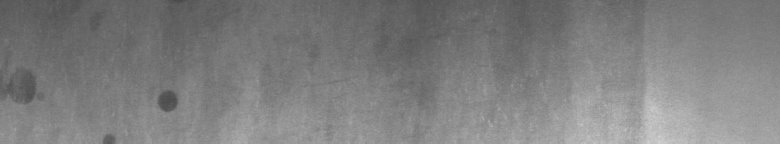fi: (105, 84, 183, 136)
